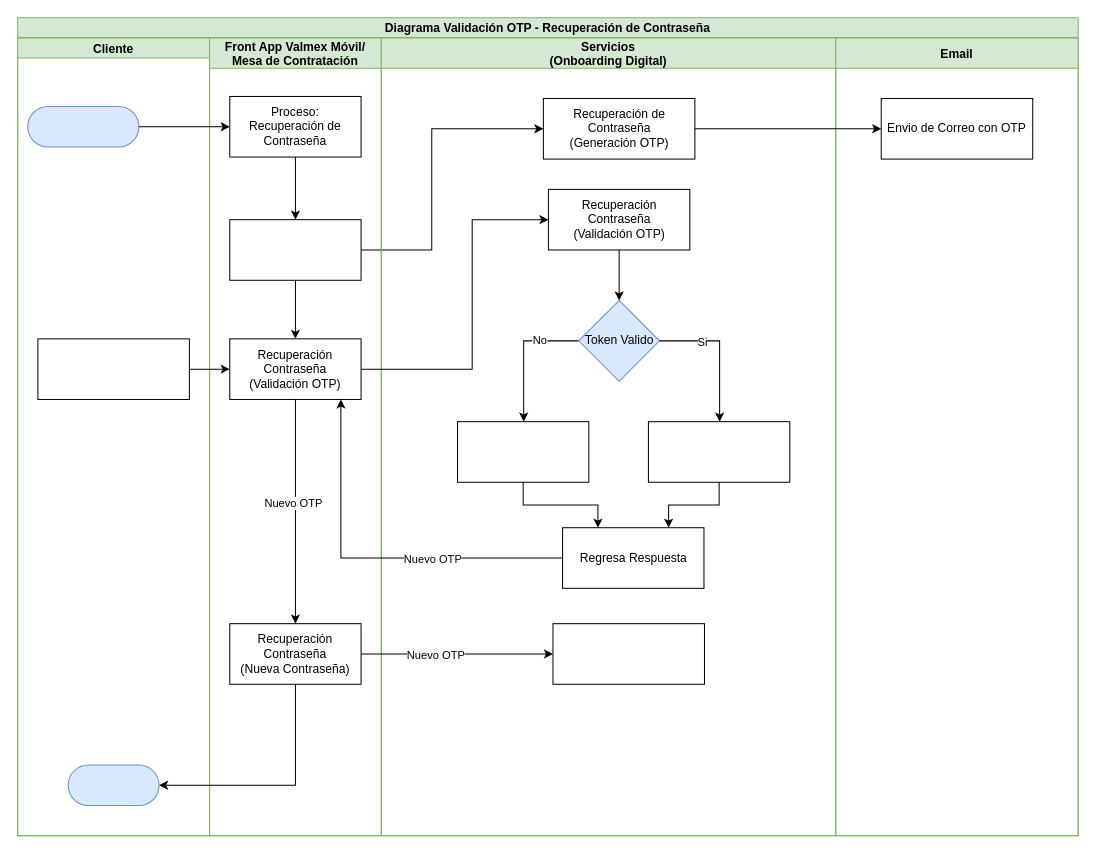
This 1096x853 diagram has some shape labels left out. The centre of each missing label's shape, as x and y in pixels:
"Acceso Denegado" goes at pixel 523 451.
"Continua Ejecución" goes at pixel 718 451.
"Fin del proceso" goes at pixel 113 784.
"Inicia el proceso" goes at pixel 83 126.
"Recepción de OTP (Correo)" goes at pixel 113 368.
"Recuperación Contraseña (Init)" goes at pixel 295 249.
"Recuperación de Contraseña (Finish)" goes at pixel 628 653.
